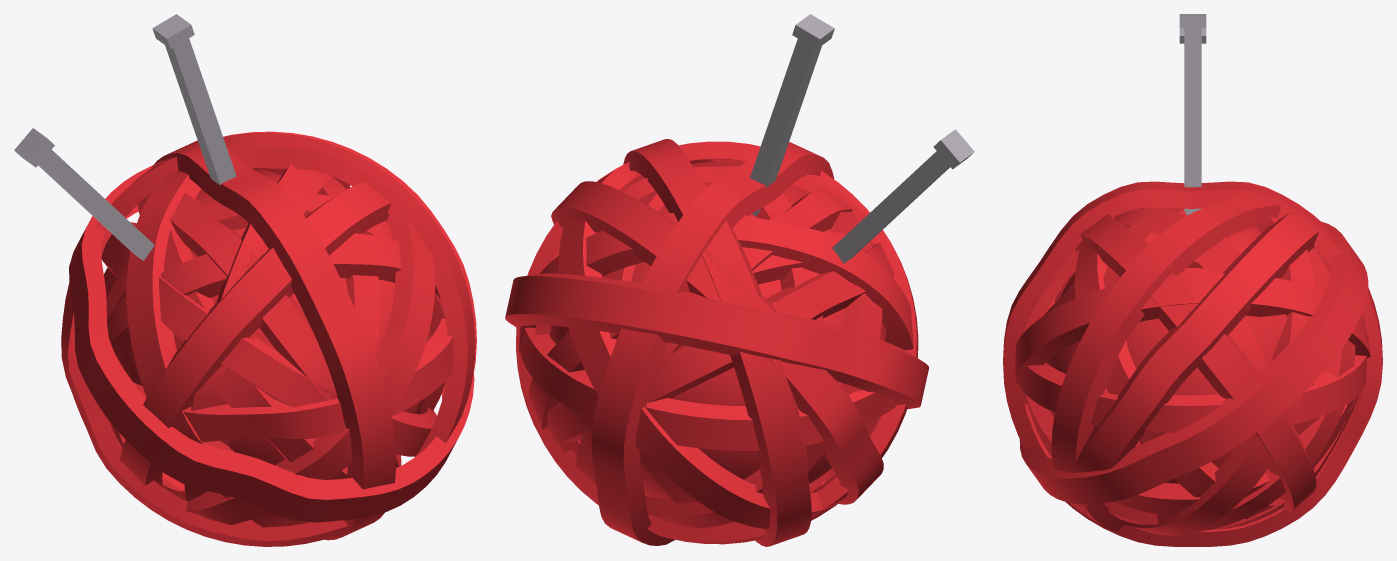
File: yarn.gltf
The picture shows the model from 3 angles, left to right: view 1: azimuth 30°, elevation 25°; view 2: azimuth 150°, elevation 25°; view 3: azimuth 270°, elevation 25°; orthographic projection. The views are drawn at different scales.
Visible parts, largest first — view 1: Sphere.354, Cube.6103, Cube.6104; view 2: Sphere.354, Cube.6103, Cube.6104; view 3: Sphere.354, Cube.6103.
Boxes of the visible parts, x1=… form: Sphere.354: x1=61, y1=131, x2=476, y2=546; Cube.6103: x1=152, y1=14, x2=236, y2=185; Cube.6104: x1=14, y1=128, x2=154, y2=260; Sphere.354: x1=505, y1=139, x2=928, y2=546; Cube.6103: x1=750, y1=14, x2=834, y2=216; Cube.6104: x1=832, y1=129, x2=974, y2=263; Sphere.354: x1=1003, y1=181, x2=1382, y2=546; Cube.6103: x1=1179, y1=14, x2=1206, y2=215.
Size of the model in its own units: 2 by 2.35 by 1.71.
